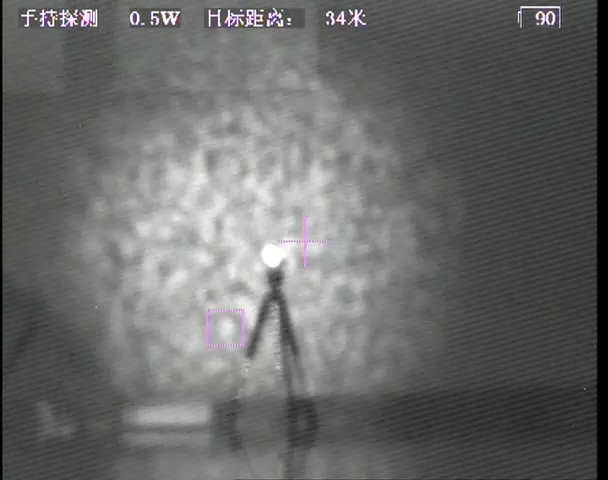my: (260, 243, 284, 268)
